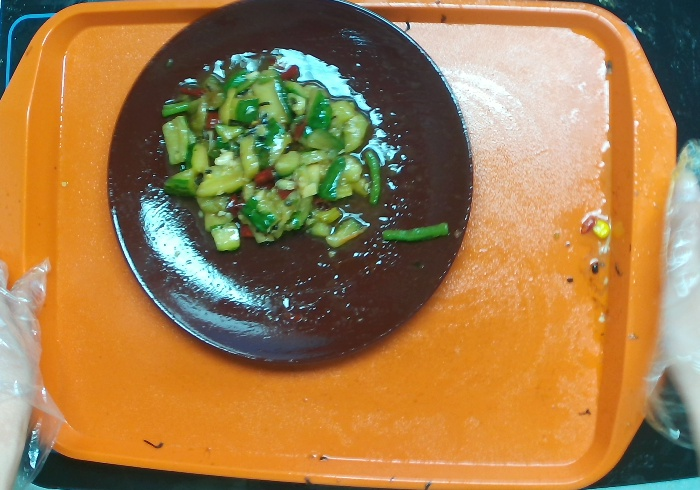HZYJPL-Ka_Fei_Yuan_Pan: (105, 1, 476, 369)
